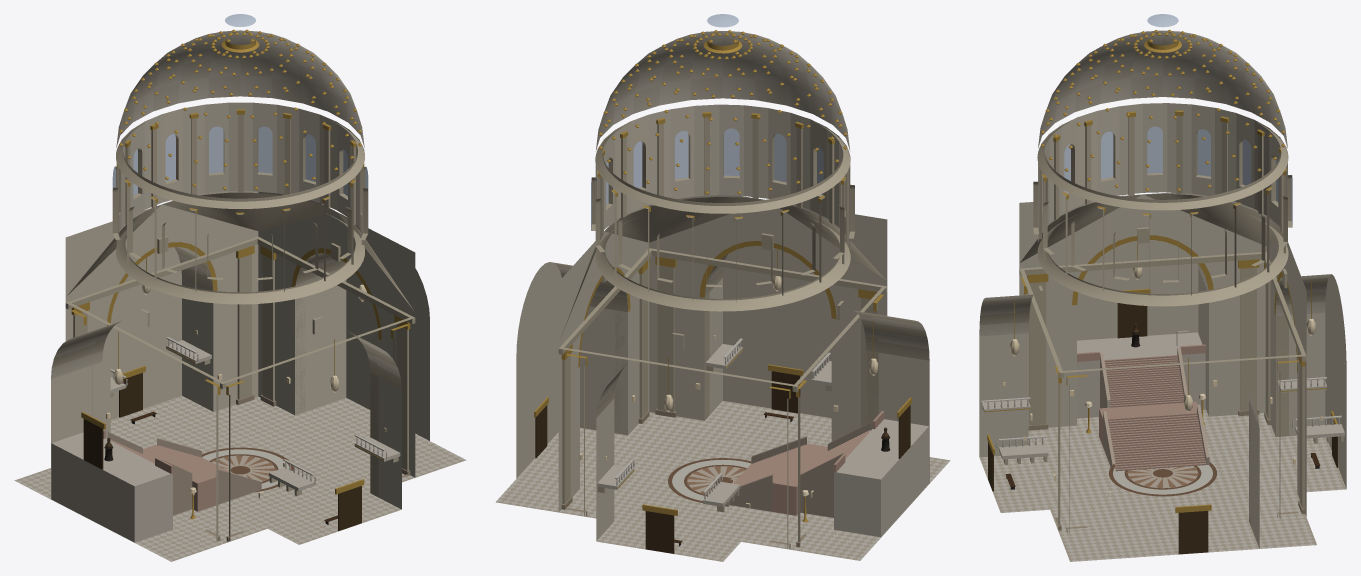
File: cityHall_int.glb
3 views of the same model, side by side, from view 1: azimuth 30°, elevation 25°; view 2: azimuth 150°, elevation 25°; view 3: azimuth 270°, elevation 25° (orthographic). The views are drawn at different scales.
Visible parts, largest first — view 1: I_x_plaster, I_x_marble_white, I_x_gold, I_sky, I_x_veneer, I_lampI; view 2: I_x_plaster, I_x_marble_white, I_x_gold, I_x_veneer, I_sky, I_lampI; view 3: I_x_plaster, I_x_marble_white, I_x_gold, I_sky, I_x_veneer, I_lampI.
Part boxes in pixels (x1,y1,x2,y2): I_x_plaster: (51, 30, 429, 541); I_x_marble_white: (14, 337, 466, 561); I_x_gold: (71, 29, 410, 518); I_sky: (112, 14, 368, 195); I_x_veneer: (83, 372, 361, 530); I_lampI: (106, 284, 386, 498); I_x_plaster: (516, 31, 929, 548); I_x_marble_white: (496, 338, 950, 561); I_x_gold: (534, 30, 911, 522); I_x_veneer: (535, 371, 910, 553); I_sky: (591, 14, 845, 229); I_lampI: (579, 275, 878, 509); I_x_plaster: (979, 30, 1346, 548); I_x_marble_white: (979, 332, 1346, 561); I_x_gold: (984, 29, 1337, 512); I_sky: (1042, 14, 1292, 225); I_x_veneer: (988, 303, 1337, 554); I_lampI: (1003, 267, 1322, 497).
Size of the model in its own units: 50.2 by 60.39 by 44.02.
